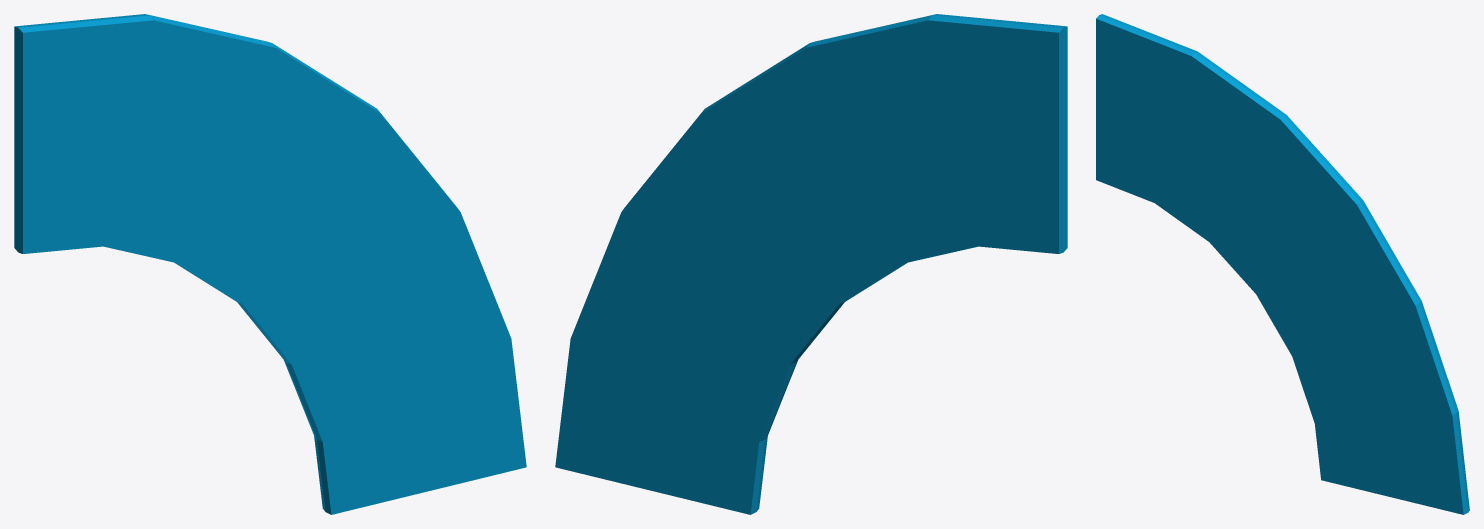
File: turning_road.obj
3 views of the same model, side by side, from view 1: azimuth 30°, elevation 25°; view 2: azimuth 150°, elevation 25°; view 3: azimuth 330°, elevation 25° (orthographic). The views are drawn at different scales.
Parts seen in each view (by area): view 1: obj_0; view 2: obj_0; view 3: obj_0.
Boxes of the visible parts, box(x1,y1,x2,y2) form: obj_0: box(14, 14, 526, 514); obj_0: box(555, 14, 1067, 514); obj_0: box(1096, 14, 1469, 514).
Size of the model in its own units: 33.44 by 35.35 by 0.995.
